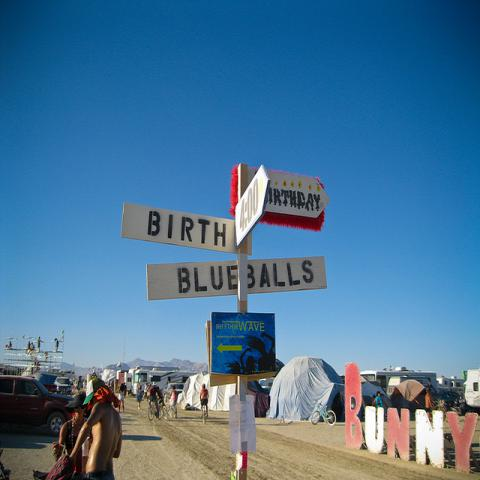car: (0, 376, 74, 438), (163, 383, 185, 403), (54, 376, 74, 395), (44, 384, 58, 392)
